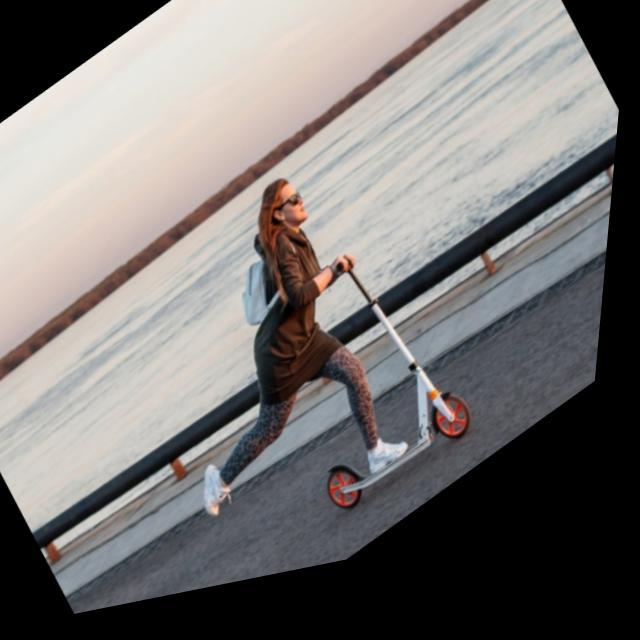Nonhelmet: (255, 168, 317, 238)
